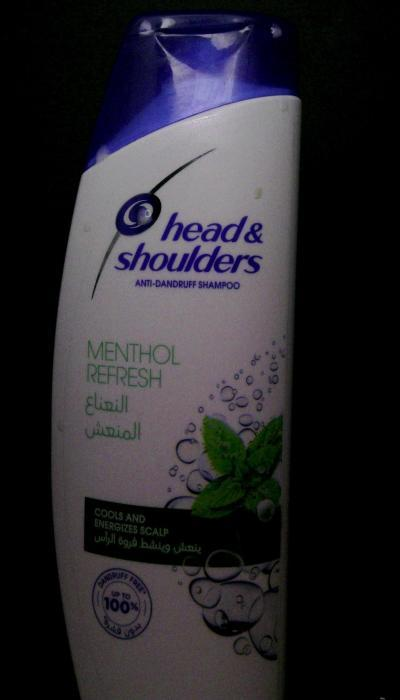pob_marg: (135, 19, 159, 48), (75, 216, 100, 242), (51, 412, 71, 443), (273, 94, 297, 119), (248, 181, 270, 205), (264, 20, 286, 42), (160, 14, 178, 37), (90, 146, 110, 166), (235, 23, 255, 35), (225, 15, 242, 28)
